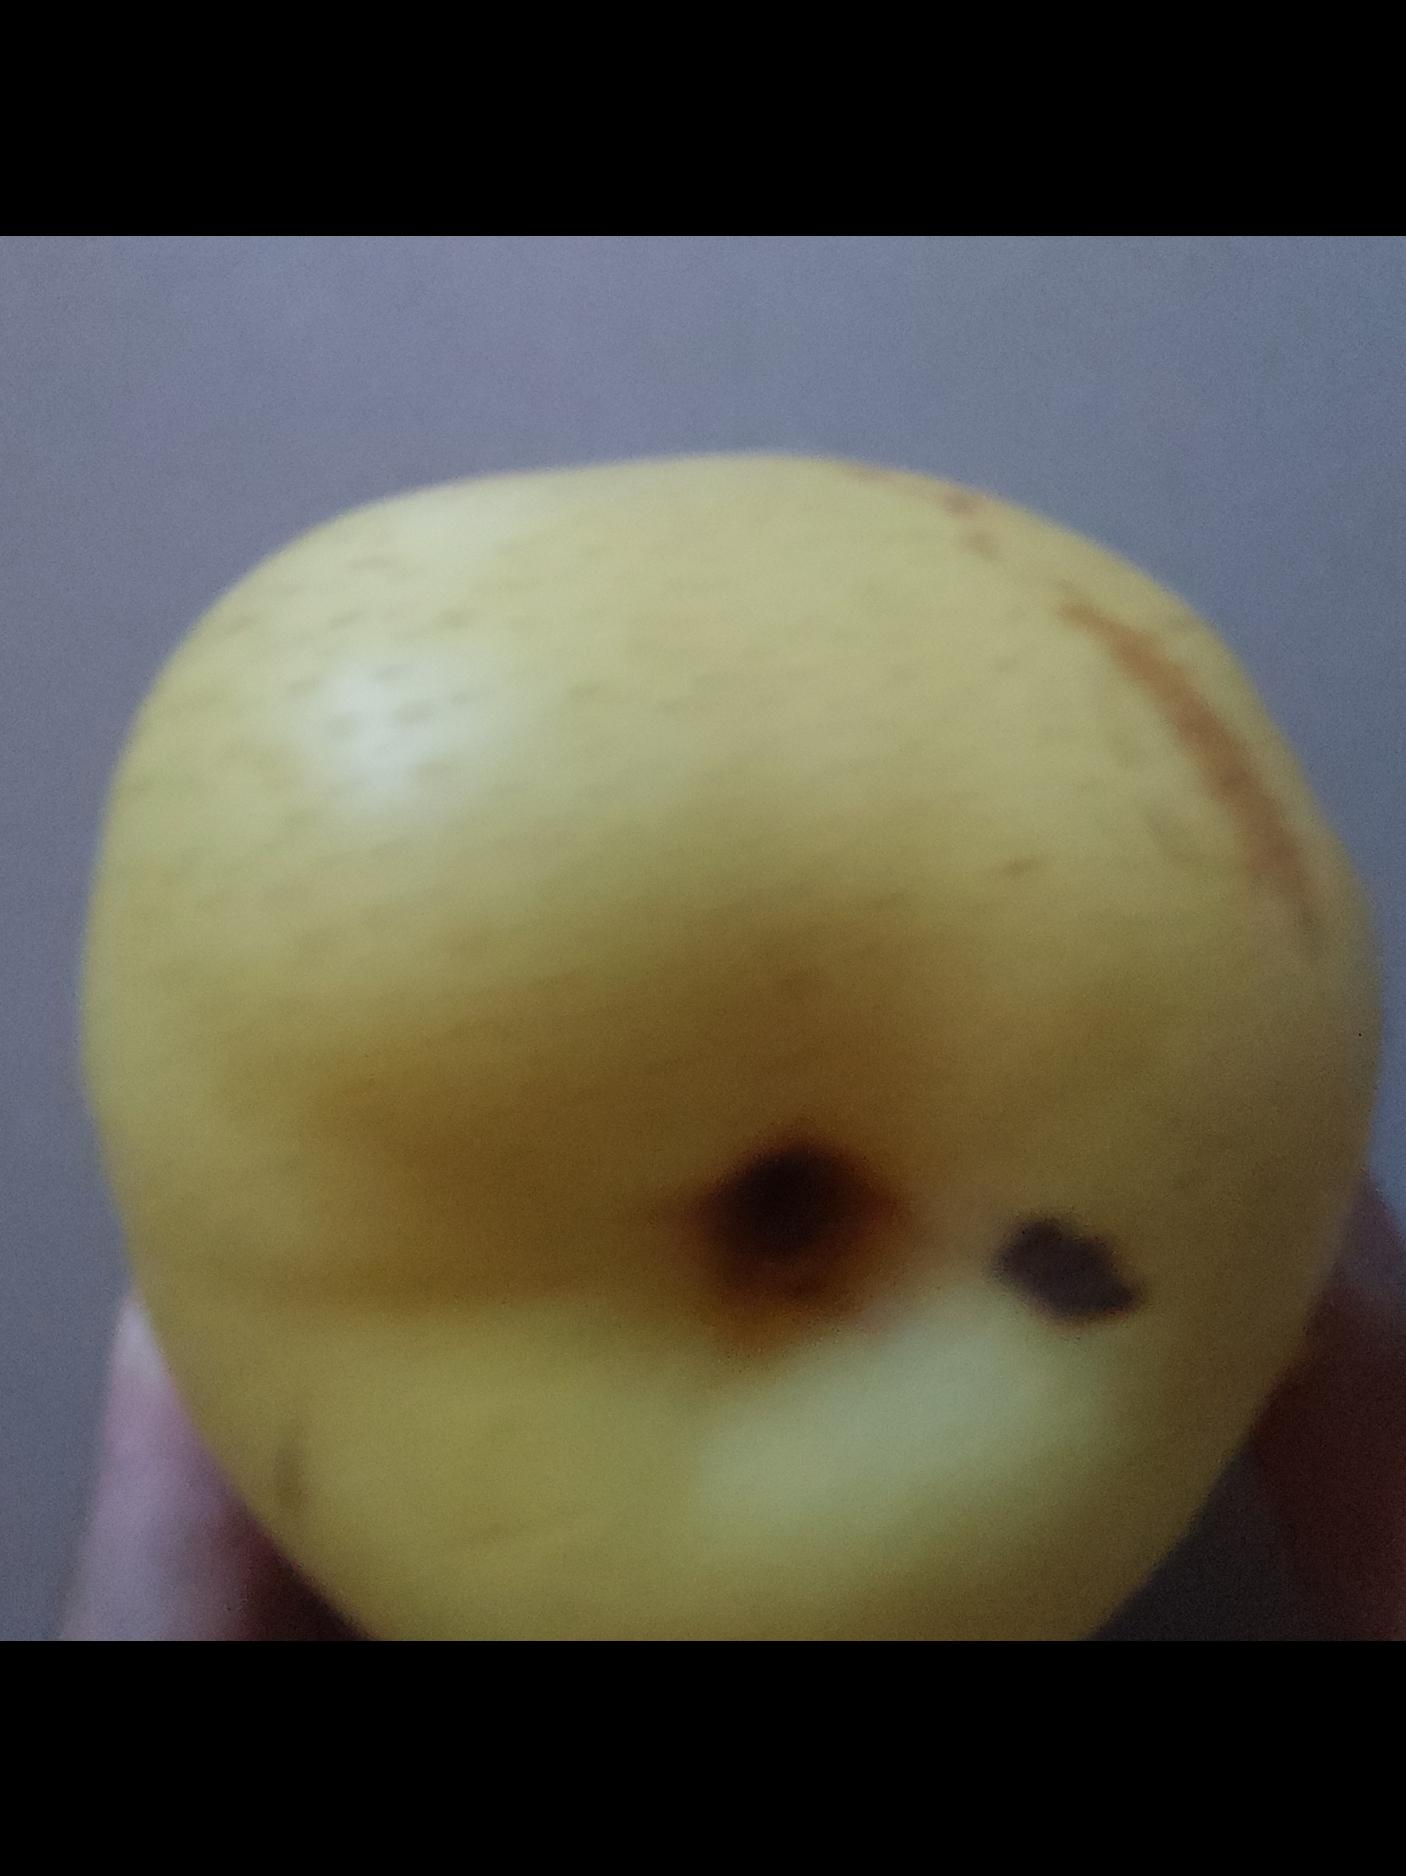Good Pear: (65, 442, 1393, 1641)
